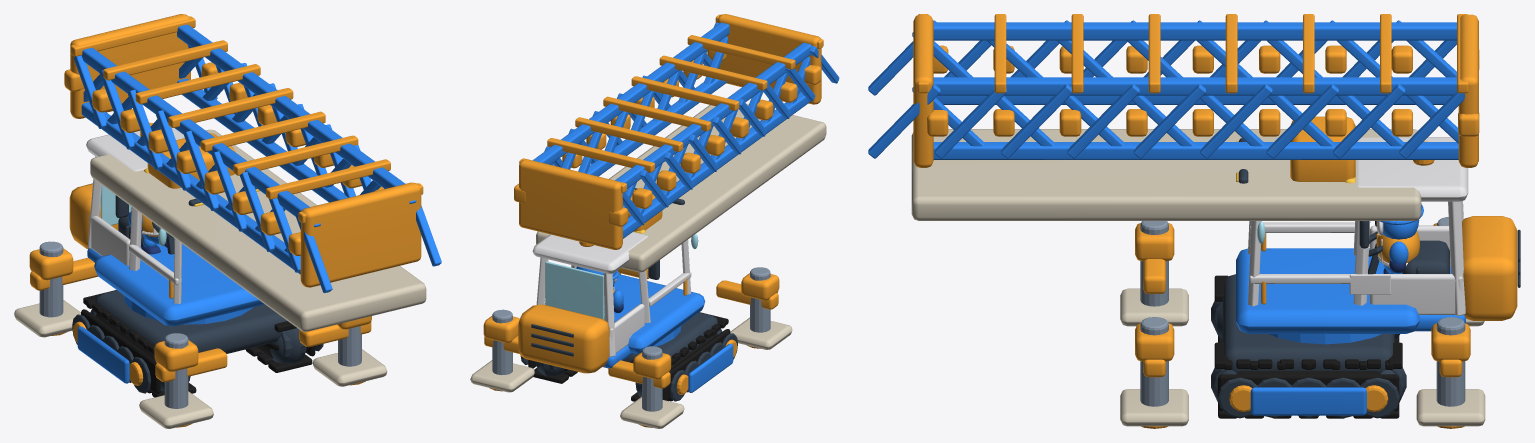
Rendered from launcher.glb.
3 renders of one model, left to right at view 1: azimuth 30°, elevation 25°; view 2: azimuth 150°, elevation 25°; view 3: azimuth 270°, elevation 25°, orthographic. The views are drawn at different scales.
Parts seen in each view (by area): view 1: orange_mesh.012, team_mesh.034, stone_mesh.001, team_mesh.028, track_mesh.004, orange_mesh.010, white_mesh.008, black_mesh.007, stone_mesh.002, stone_mesh.004, stone_mesh.003, steel_mesh.006 (+5 smaller); view 2: orange_mesh.012, team_mesh.034, stone_mesh.001, orange_mesh.010, white_mesh.008, team_mesh.028, track_mesh.004, glass_mesh.003, black_mesh.007, stone_mesh.005, stone_mesh.003, stone_mesh.002 (+6 smaller); view 3: team_mesh.034, stone_mesh.001, orange_mesh.012, team_mesh.028, white_mesh.008, track_mesh.004, orange_mesh.010, black_mesh.007, stone_mesh.005, stone_mesh.004, stone_mesh.002, steel_mesh.009 (+7 smaller).
Boxes of the visible parts, x1=… form: orange_mesh.012: x1=64, y1=14, x2=423, y2=287; team_mesh.034: x1=74, y1=24, x2=441, y2=293; stone_mesh.001: x1=90, y1=129, x2=426, y2=331; team_mesh.028: x1=77, y1=244, x2=264, y2=383; track_mesh.004: x1=72, y1=183, x2=323, y2=393; orange_mesh.010: x1=30, y1=122, x2=371, y2=427; white_mesh.008: x1=86, y1=127, x2=184, y2=303; black_mesh.007: x1=81, y1=290, x2=315, y2=397; stone_mesh.002: x1=139, y1=391, x2=213, y2=428; stone_mesh.004: x1=312, y1=349, x2=387, y2=386; stone_mesh.003: x1=14, y1=300, x2=80, y2=337; steel_mesh.006: x1=164, y1=333, x2=188, y2=408; orange_mesh.012: x1=514, y1=14, x2=823, y2=249; team_mesh.034: x1=533, y1=22, x2=839, y2=238; stone_mesh.001: x1=536, y1=103, x2=826, y2=272; orange_mesh.010: x1=484, y1=189, x2=778, y2=427; white_mesh.008: x1=532, y1=232, x2=691, y2=357; team_mesh.028: x1=603, y1=274, x2=733, y2=392; track_mesh.004: x1=520, y1=188, x2=737, y2=401; glass_mesh.003: x1=545, y1=234, x2=698, y2=319; black_mesh.007: x1=528, y1=312, x2=730, y2=401; stone_mesh.005: x1=470, y1=360, x2=534, y2=392; stone_mesh.003: x1=620, y1=396, x2=684, y2=428; stone_mesh.002: x1=730, y1=317, x2=792, y2=349; team_mesh.034: x1=868, y1=20, x2=1464, y2=159; stone_mesh.001: x1=911, y1=129, x2=1421, y2=220; orange_mesh.012: x1=913, y1=14, x2=1479, y2=167; team_mesh.028: x1=1236, y1=248, x2=1465, y2=415; white_mesh.008: x1=1248, y1=137, x2=1468, y2=316; track_mesh.004: x1=1211, y1=138, x2=1520, y2=418; orange_mesh.010: x1=1141, y1=116, x2=1517, y2=428; black_mesh.007: x1=1214, y1=275, x2=1402, y2=418; stone_mesh.005: x1=1416, y1=389, x2=1485, y2=426; stone_mesh.004: x1=1120, y1=389, x2=1188, y2=426; stone_mesh.002: x1=1120, y1=288, x2=1188, y2=326; steel_mesh.009: x1=1436, y1=317, x2=1465, y2=406.
Size of the model in its own units: 2.58 by 3.07 by 5.5.
